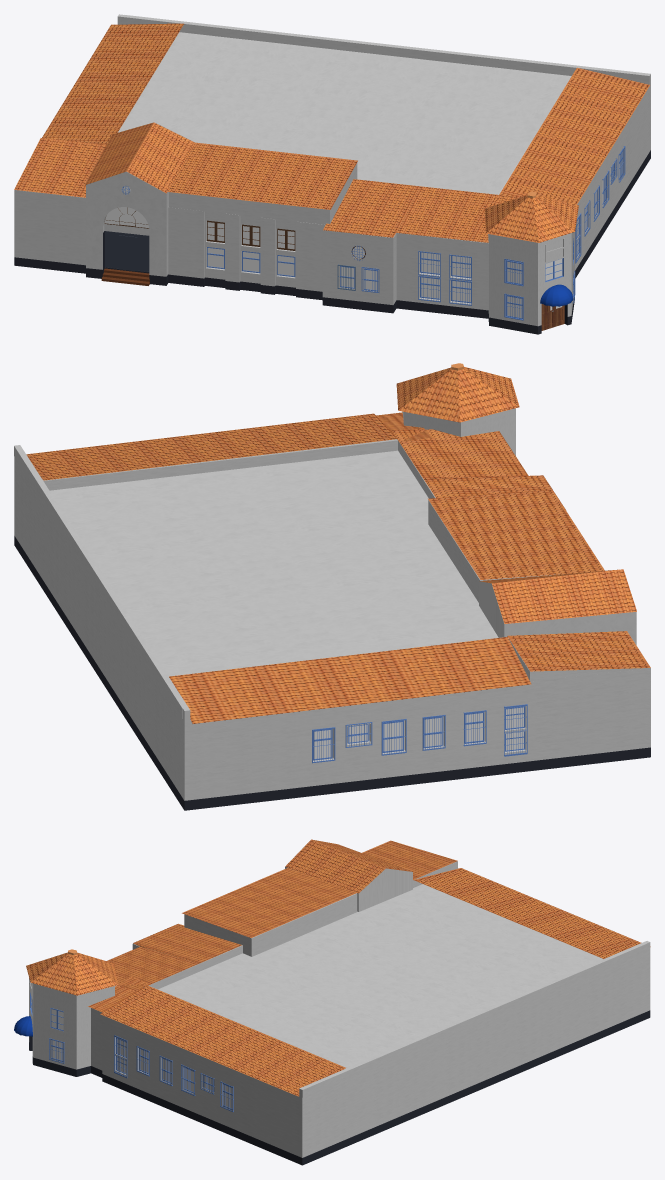
Rendered from OmniCommons.glb.
3 views of the same model, one above another, from view 1: azimuth 30°, elevation 25°; view 2: azimuth 150°, elevation 25°; view 3: azimuth 270°, elevation 25° (orthographic). The views are drawn at different scales.
Visible parts, largest first — view 1: Cube.001, Plane.010, Plane.003, Plane.002, Plane.001, Cube.092, Cube.070, Plane.012, Plane.013, Plane.014, Cube.074, Plane.018 (+9 smaller); view 2: Cube.001, Plane.002, Plane.003, Plane.010, Plane.001, Plane.014, Plane.012, Cube.070, Cube.092, Plane.021, Plane.022, Plane.020 (+3 smaller); view 3: Cube.001, Plane.010, Plane.002, Plane.003, Cube.092, Plane.001, Plane.013, Plane.012, Cube.070, Plane.019, Plane.020, Plane.015 (+1 smaller).
Part boxes in pixels (x1,y1,x2,y2): Cube.001: [14, 14, 650, 318]; Plane.010: [499, 67, 649, 204]; Plane.003: [168, 142, 357, 209]; Plane.002: [42, 23, 184, 144]; Plane.001: [323, 179, 517, 242]; Cube.092: [488, 232, 574, 334]; Cube.070: [86, 135, 186, 285]; Plane.012: [14, 138, 106, 197]; Plane.013: [126, 122, 194, 193]; Plane.014: [85, 122, 153, 184]; Cube.074: [105, 231, 149, 272]; Plane.018: [486, 197, 538, 242]; Cube.001: [14, 439, 650, 810]; Plane.002: [169, 637, 531, 723]; Plane.003: [428, 489, 604, 579]; Plane.010: [26, 413, 397, 480]; Plane.001: [391, 429, 566, 510]; Plane.014: [492, 569, 636, 623]; Plane.012: [507, 631, 650, 671]; Cube.070: [479, 575, 636, 644]; Cube.092: [402, 408, 515, 455]; Plane.021: [398, 369, 459, 422]; Plane.022: [458, 369, 519, 422]; Plane.020: [396, 367, 451, 410]; Cube.001: [91, 861, 650, 1165]; Plane.010: [100, 985, 345, 1096]; Plane.002: [414, 868, 650, 958]; Plane.003: [182, 868, 357, 937]; Cube.092: [29, 978, 114, 1076]; Plane.001: [106, 923, 241, 990]; Plane.013: [285, 839, 385, 893]; Plane.012: [362, 840, 457, 879]; Cube.070: [285, 846, 412, 911]; Plane.019: [31, 954, 77, 995]; Plane.020: [73, 954, 117, 995]; Plane.015: [88, 977, 149, 1012].
Size of the model in its own units: 28.36 by 5.46 by 29.69.
Materials: 12 (3 with a texture image).
